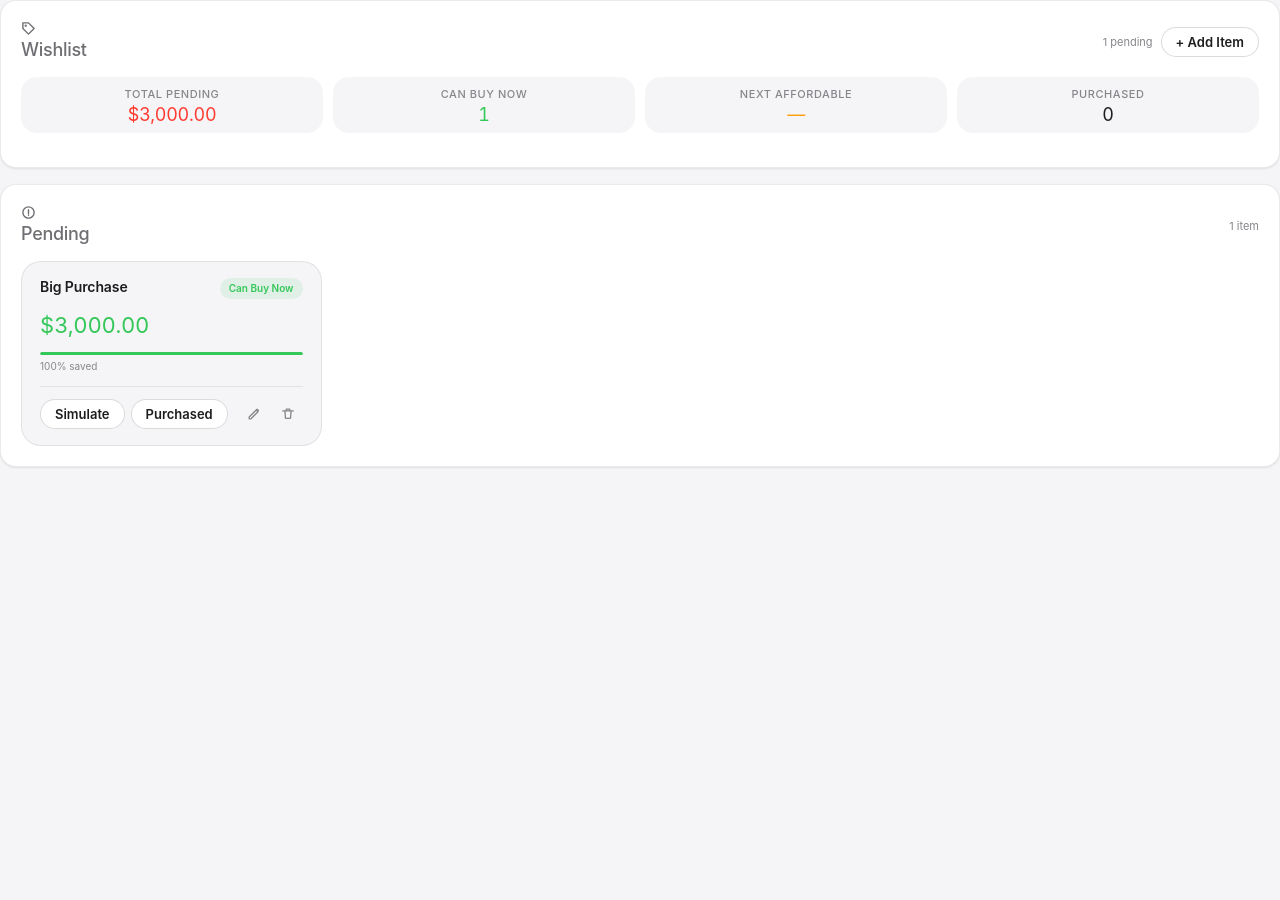
Test: Wishlist — purchase simulator › opens purchase simulator when Simulate button is clicked
Click the button "Simulate" at (82,414), box [40, 399, 124, 429]
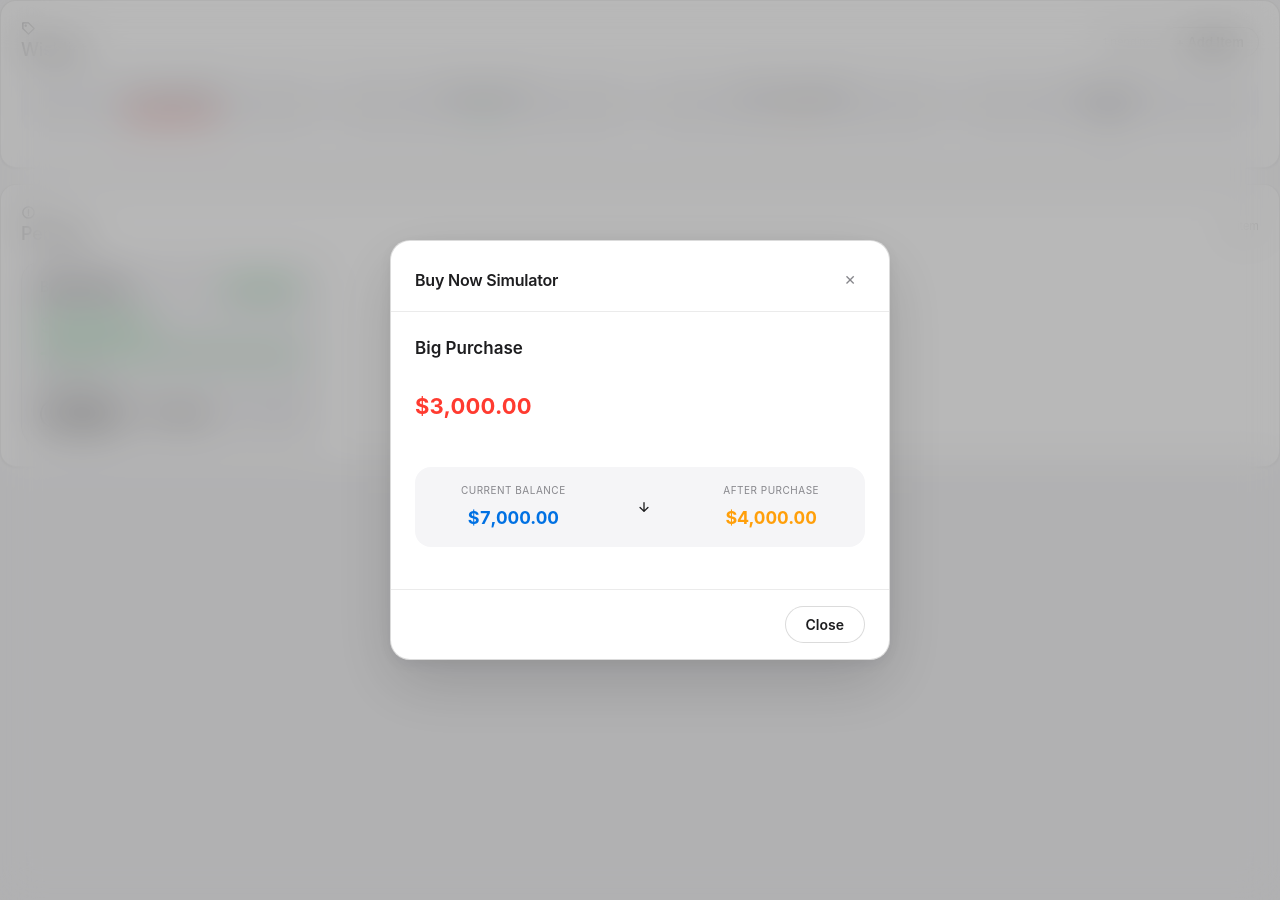
expect the heading "Buy Now Simulator" is shown: met, box [415, 268, 558, 292]
